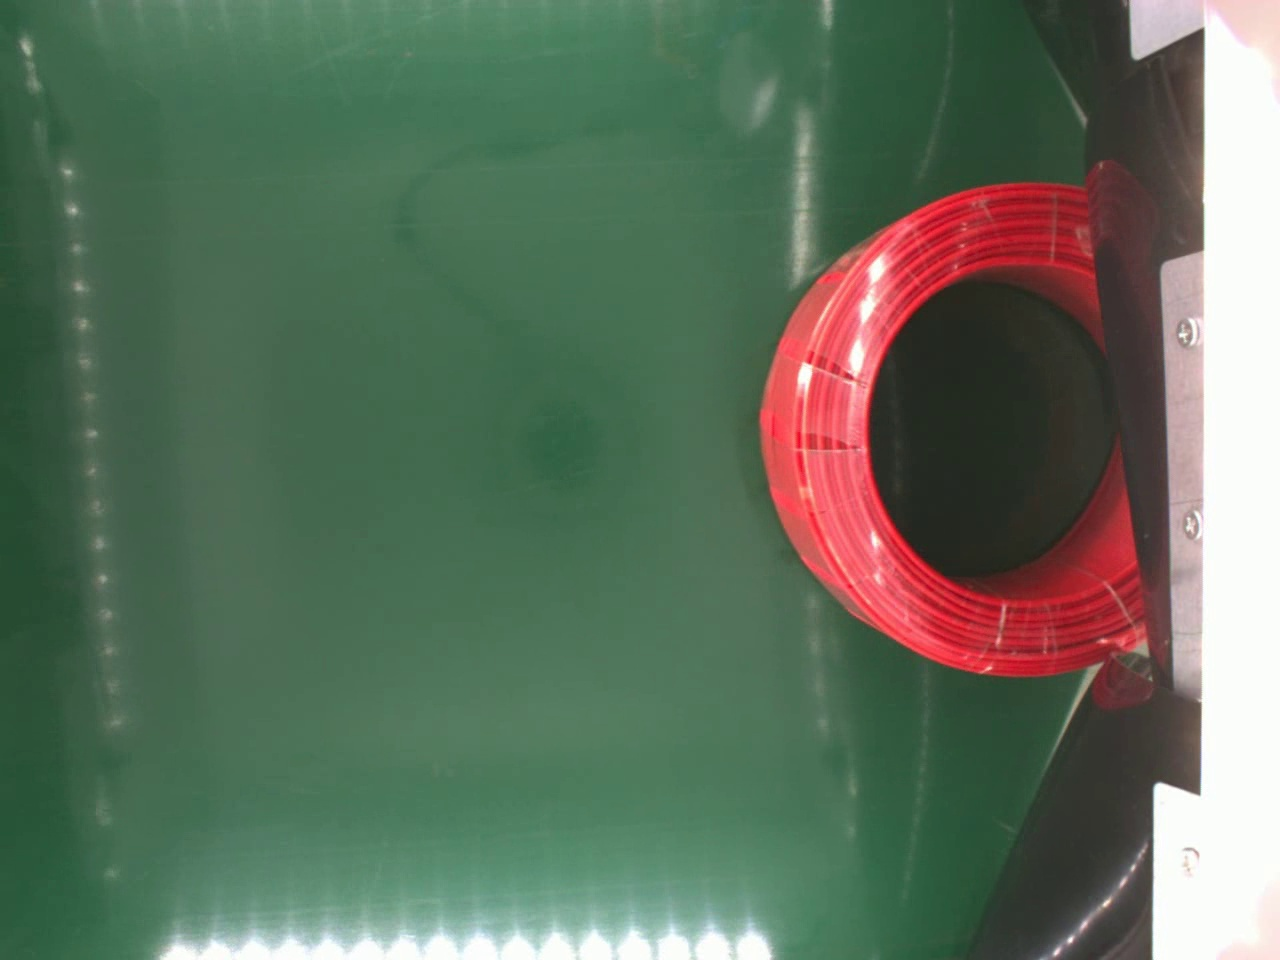red: (753, 181, 1147, 680)
